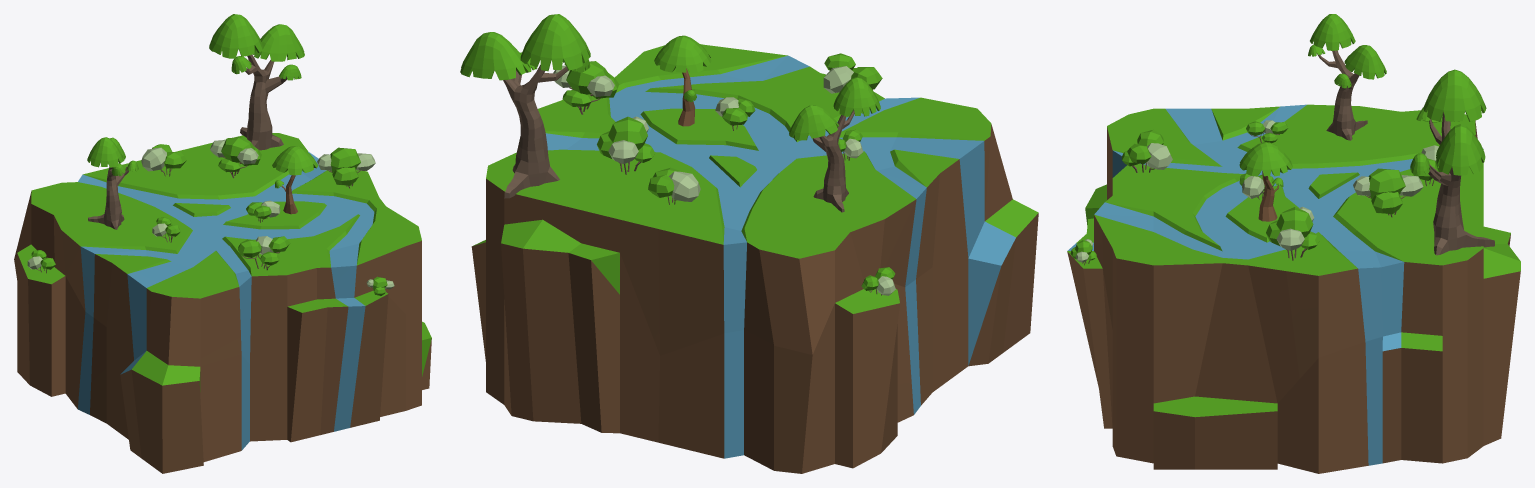
File: Island_13.glb
The picture shows the model from 3 angles, left to right: view 1: azimuth 30°, elevation 25°; view 2: azimuth 150°, elevation 25°; view 3: azimuth 270°, elevation 25°; orthographic projection. The views are drawn at different scales.
Parts seen in each view (by area): view 1: Island_13_Base, Island_13; view 2: Island_13_Base, Island_13; view 3: Island_13_Base, Island_13.
Boxes of the visible parts, x1,y1,x2,y2 form: Island_13_Base: [14, 133, 431, 473]; Island_13: [27, 14, 394, 295]; Island_13_Base: [471, 44, 1038, 473]; Island_13: [460, 14, 895, 295]; Island_13_Base: [1067, 104, 1520, 473]; Island_13: [1070, 14, 1494, 265].
Size of the model in its own units: 23.75 by 21.38 by 24.45.
1 material, 1 textured.
